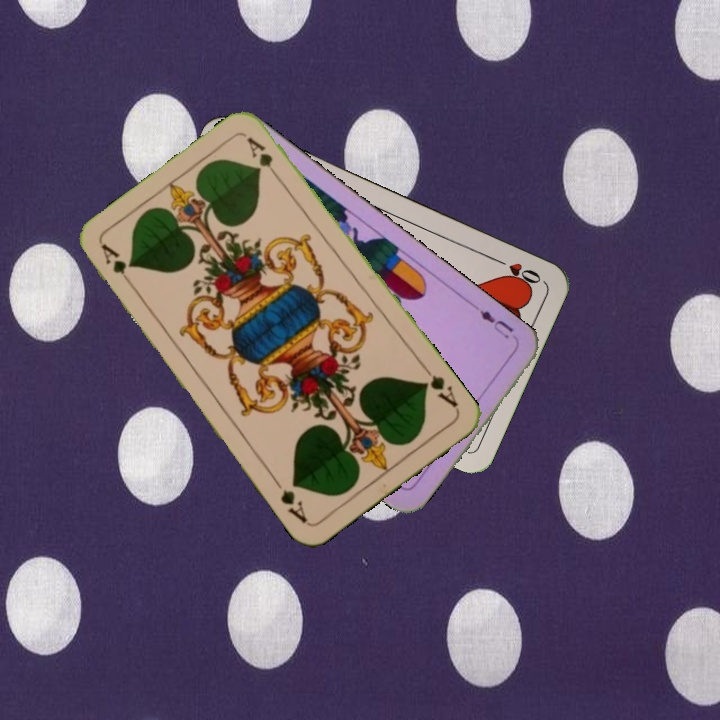EU: (475, 306, 520, 343)
GA: (418, 361, 461, 411), (97, 239, 138, 291)
HO: (489, 253, 544, 289)
